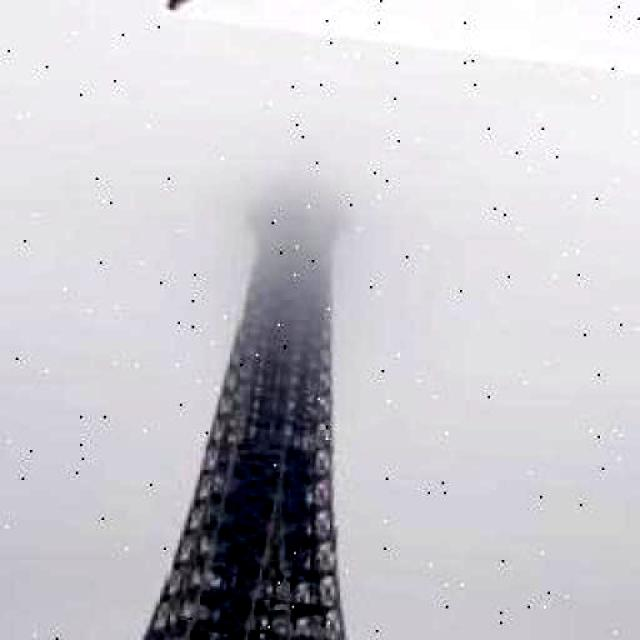airplane: (158, 0, 640, 78)
